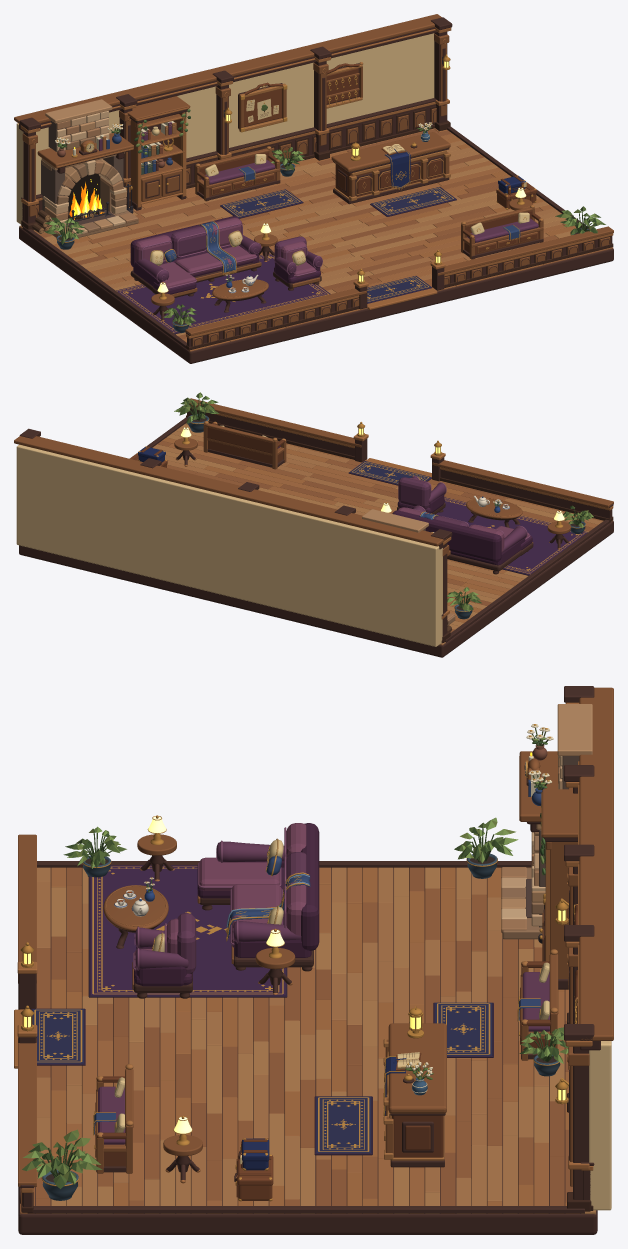
The model's file is inn-lobby.glb.
3 renders of one model, top to bottom at view 1: azimuth 30°, elevation 25°; view 2: azimuth 150°, elevation 25°; view 3: azimuth 270°, elevation 25°, orthographic. The views are drawn at different scales.
Visible parts, largest first — view 1: Architecture_oak_floor_Mesh, Architecture_plaster_and_timber_back_wall_Mesh, Architecture_cutaway_entrance_Mesh, 01_Limestone_hearth_Mesh, Lounge_L_shaped_settee_Mesh, Reception_counter_Mesh, 02_Oak_bookcase_Mesh, Rug_hearth_lounge_Mesh, Back_wall_storage_bench_Mesh, Entry_side_storage_bench_Mesh, Quest_board_Mesh, Lounge_Armchair_Mesh (+11 smaller); view 2: Architecture_plaster_and_timber_back_wall_Mesh, Architecture_oak_floor_Mesh, Architecture_cutaway_entrance_Mesh, Lounge_L_shaped_settee_Mesh, Rug_hearth_lounge_Mesh, Entry_side_storage_bench_Mesh, Lounge_Armchair_Mesh, Lounge_Tea_table_Mesh, Rug_entry_Mesh, 01_Limestone_hearth_Mesh, Plant_front_corner_Mesh, Plant_hearth_end_Mesh (+4 smaller); view 3: Architecture_oak_floor_Mesh, Architecture_plaster_and_timber_back_wall_Mesh, Architecture_cutaway_entrance_Mesh, Lounge_L_shaped_settee_Mesh, Rug_hearth_lounge_Mesh, Reception_counter_Mesh, 01_Limestone_hearth_Mesh, 02_Oak_bookcase_Mesh, Lounge_Armchair_Mesh, Entry_side_storage_bench_Mesh, Rug_reception_Mesh, Back_wall_storage_bench_Mesh (+11 smaller).
Part boxes in pixels (box(x1,y1,x2,y2)): Architecture_oak_floor_Mesh: box(19, 128, 613, 363); Architecture_plaster_and_timber_back_wall_Mesh: box(14, 14, 452, 230); Architecture_cutaway_entrance_Mesh: box(22, 126, 613, 350); 01_Limestone_hearth_Mesh: box(32, 99, 138, 237); Lounge_L_shaped_settee_Mesh: box(130, 216, 261, 297); Reception_counter_Mesh: box(331, 122, 450, 204); 02_Oak_bookcase_Mesh: box(127, 96, 190, 210); Rug_hearth_lounge_Mesh: box(116, 253, 330, 334); Back_wall_storage_bench_Mesh: box(195, 146, 280, 201); Entry_side_storage_bench_Mesh: box(461, 205, 543, 259); Quest_board_Mesh: box(238, 82, 287, 132); Lounge_Armchair_Mesh: box(273, 236, 322, 290); Architecture_plaster_and_timber_back_wall_Mesh: box(14, 428, 452, 646); Architecture_oak_floor_Mesh: box(19, 423, 613, 657); Architecture_cutaway_entrance_Mesh: box(146, 398, 613, 642); Lounge_L_shaped_settee_Mesh: box(392, 505, 533, 574); Rug_hearth_lounge_Mesh: box(435, 497, 587, 575); Entry_side_storage_bench_Mesh: box(203, 421, 286, 469); Lounge_Armchair_Mesh: box(397, 476, 446, 514); Lounge_Tea_table_Mesh: box(466, 496, 522, 527); Rug_entry_Mesh: box(348, 461, 431, 485); 01_Limestone_hearth_Mesh: box(362, 509, 455, 631); Plant_front_corner_Mesh: box(174, 392, 219, 432); Plant_hearth_end_Mesh: box(447, 587, 481, 619); Architecture_oak_floor_Mesh: box(18, 867, 597, 1234); Architecture_plaster_and_timber_back_wall_Mesh: box(564, 686, 613, 1211); Architecture_cutaway_entrance_Mesh: box(14, 834, 584, 1213); Lounge_L_shaped_settee_Mesh: box(197, 823, 319, 971); Rug_hearth_lounge_Mesh: box(88, 865, 287, 997); Reception_counter_Mesh: box(383, 1006, 446, 1167); 01_Limestone_hearth_Mesh: box(501, 704, 592, 943); 02_Oak_bookcase_Mesh: box(539, 789, 577, 989); Lounge_Armchair_Mesh: box(132, 912, 196, 998); Entry_side_storage_bench_Mesh: box(93, 1064, 133, 1173); Rug_reception_Mesh: box(314, 1096, 372, 1155); Back_wall_storage_bench_Mesh: box(517, 949, 558, 1060).
Size of the model in its own units: 15.22 by 4.1 by 10.91.
